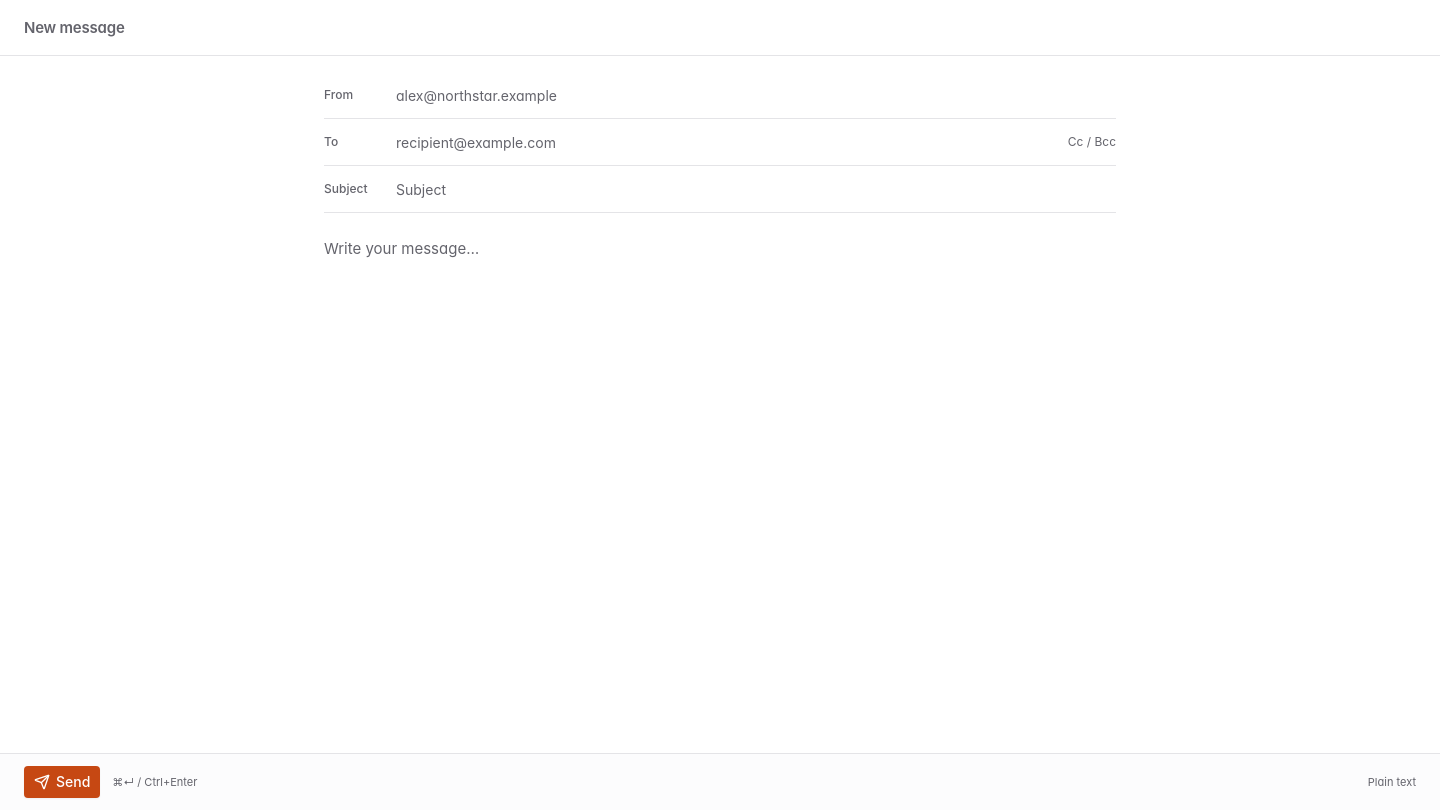
sends with Ctrl+Enter and retains every field after a network failure
Step 1. Type "maya@studio.example" into the field labelled "To" → (724, 142), box [396,123,1052,161]
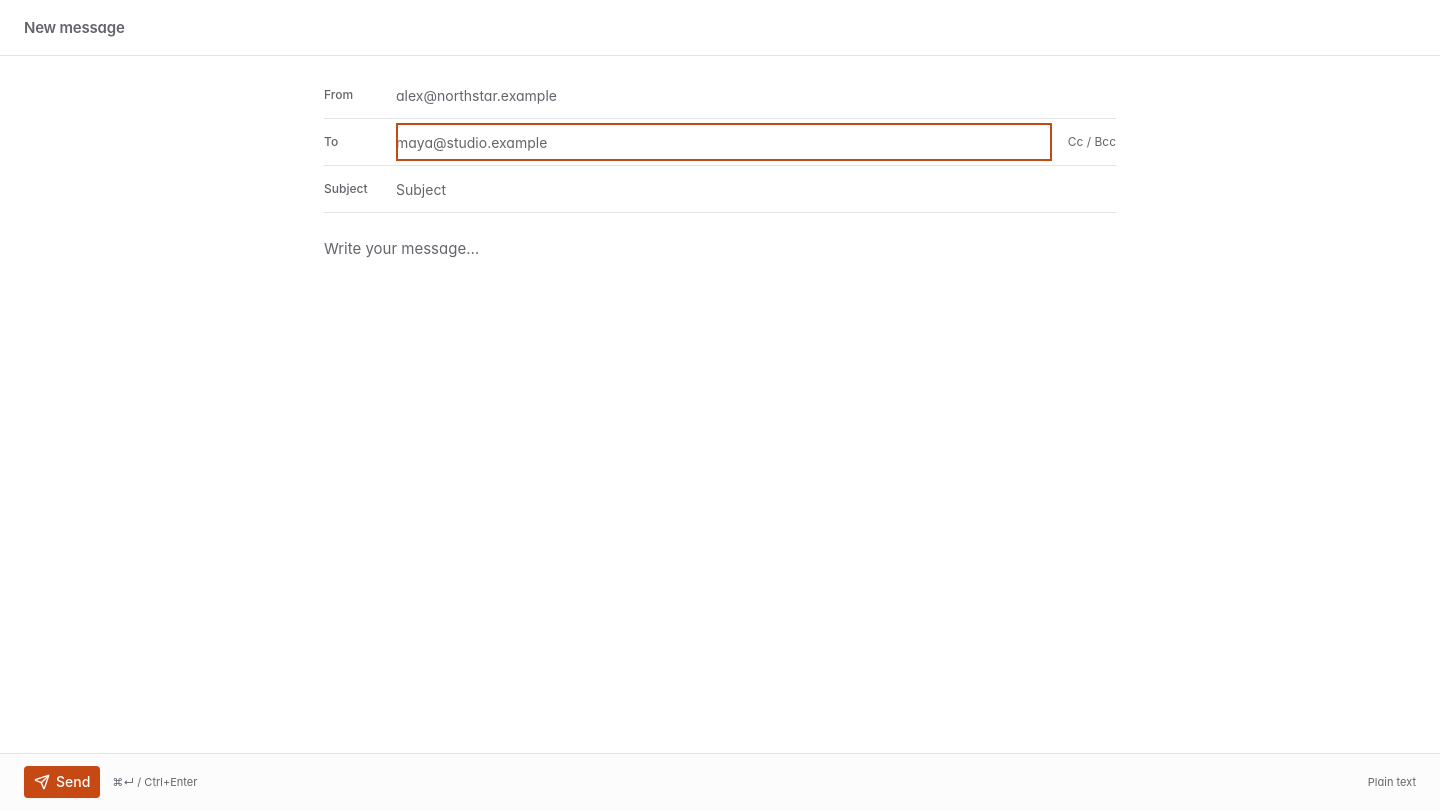
Step 2. Type "Launch" into the field labelled "Subject" → (756, 189), box [396,170,1116,208]
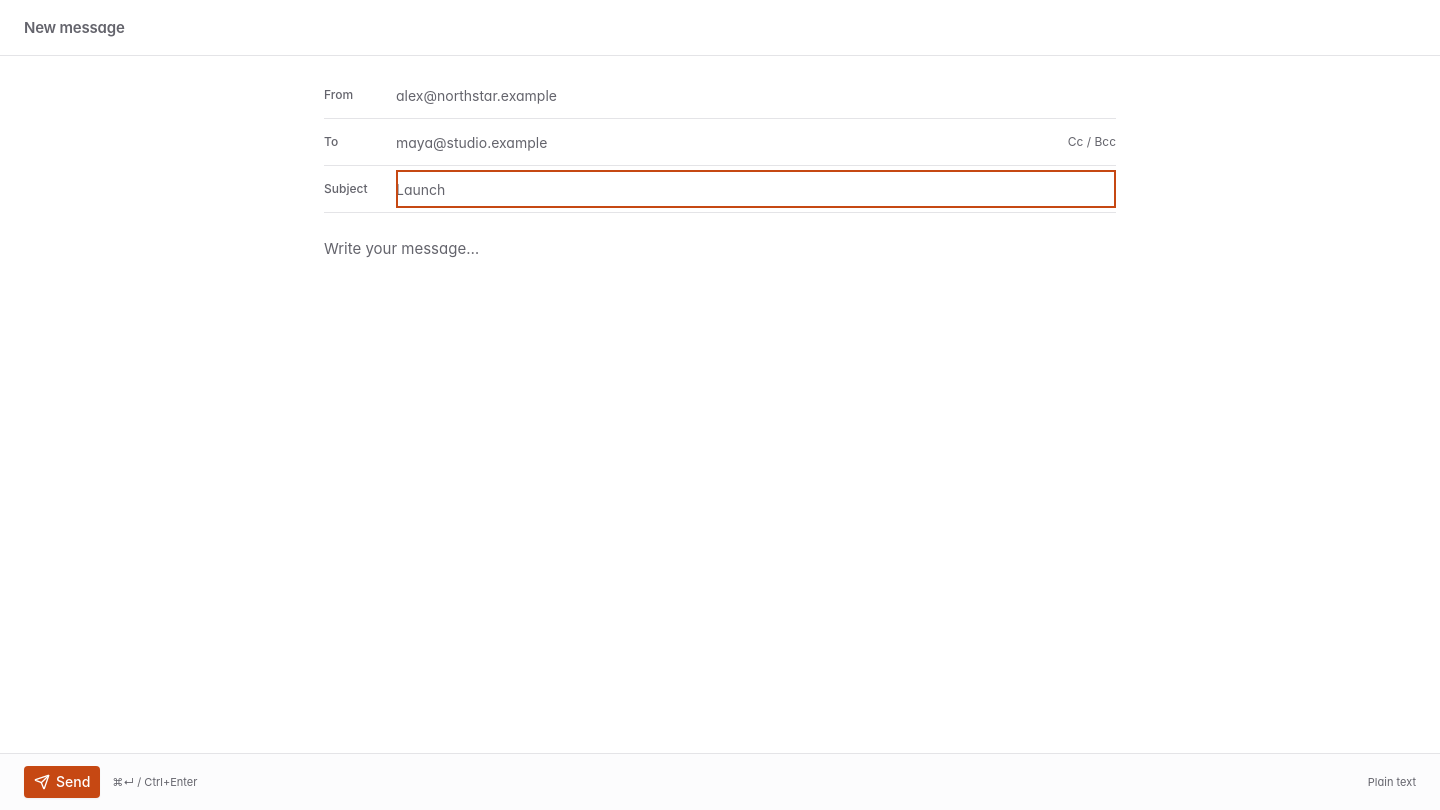
Step 3. Type "Ready for Thursday" into the text box labelled "message" → (720, 481), box [324,225,1116,737]
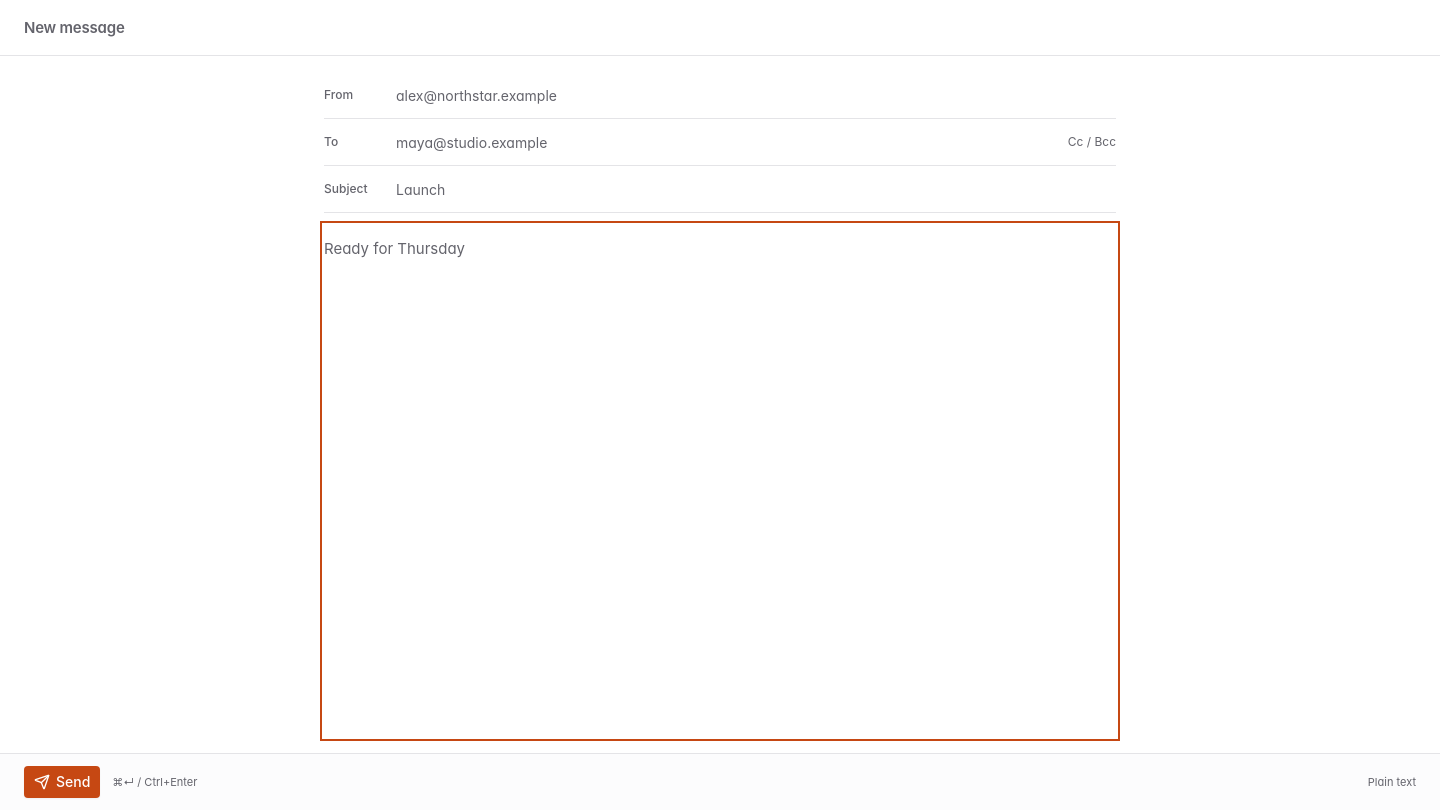
Step 4. Type keys "{Control>}{Enter}{/Control}"
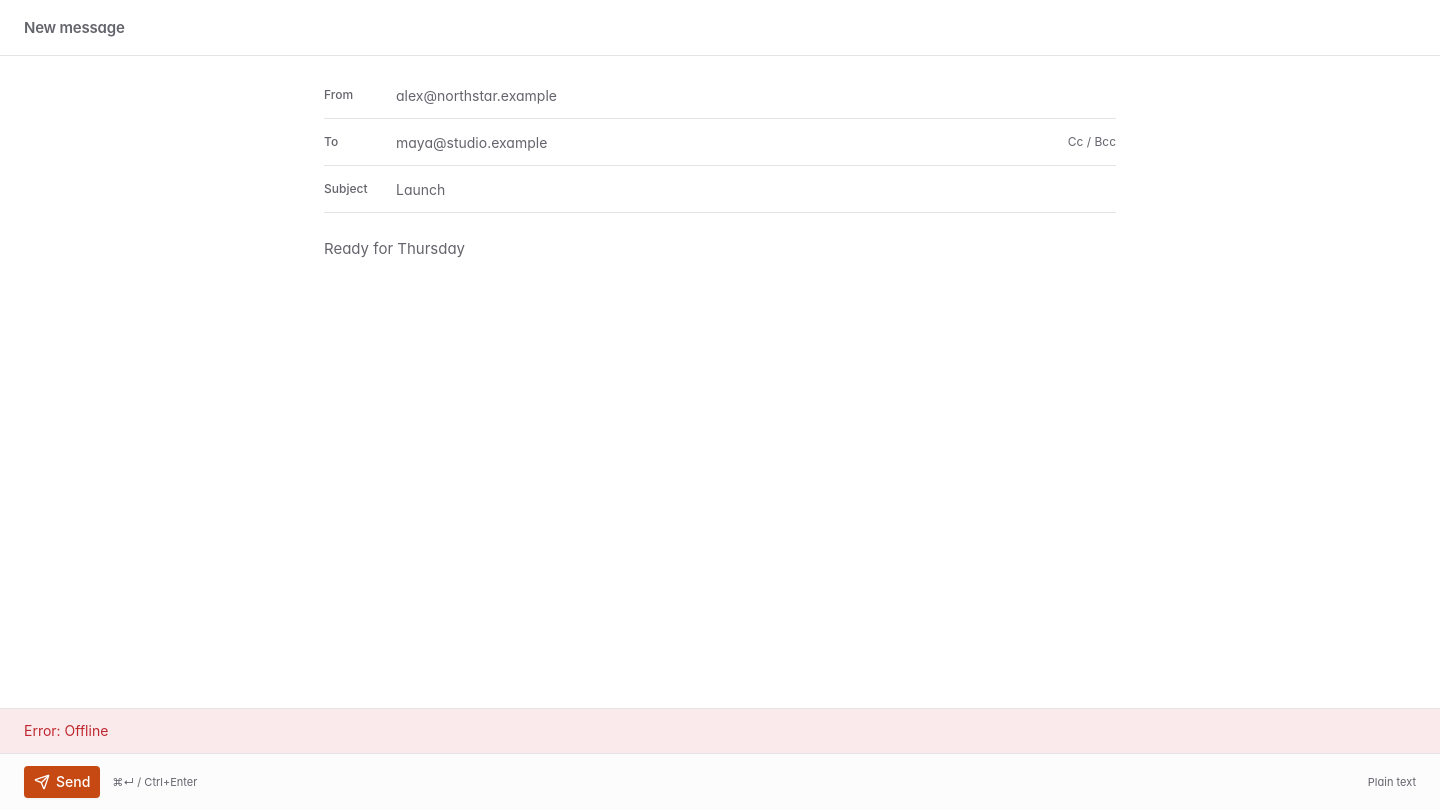
Result: the message shows "Offline" at [24,722,108,739]
